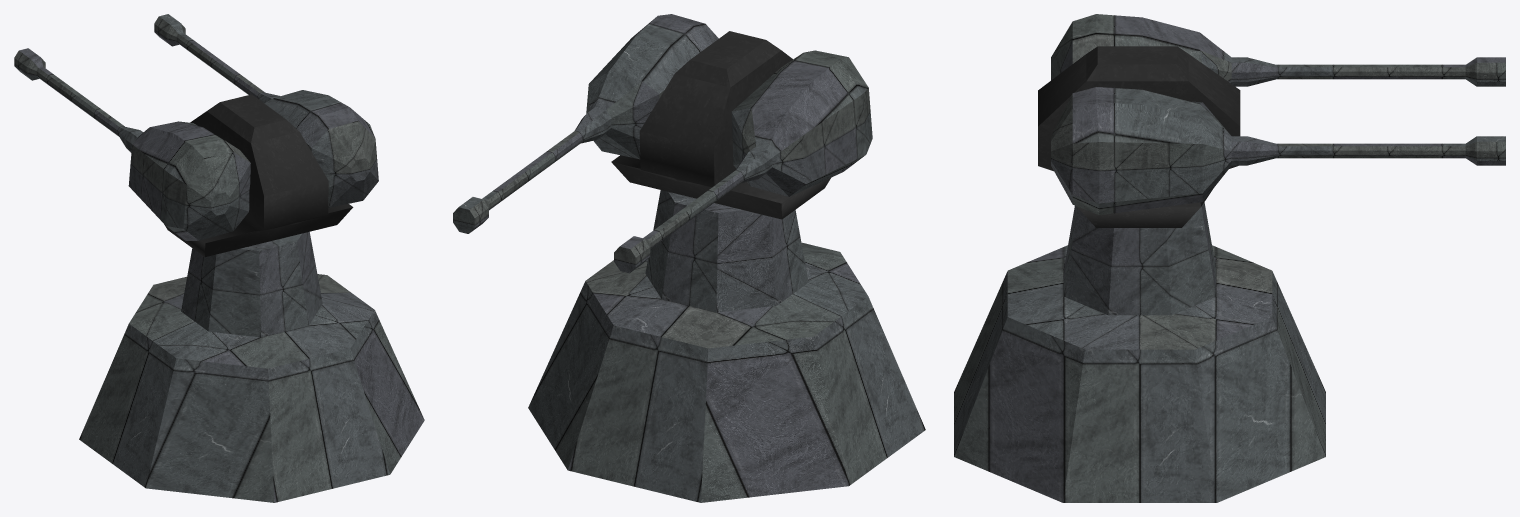
File: Turret.FBX
The picture shows the model from 3 angles, left to right: view 1: azimuth 30°, elevation 25°; view 2: azimuth 150°, elevation 25°; view 3: azimuth 270°, elevation 25°; orthographic projection. The views are drawn at different scales.
Parts seen in each view (by area): view 1: Box43, Box44, Box45; view 2: Box43, Box44, Box45; view 3: Box43, Box44, Box45.
Boxes of the visible parts, x1,y1,x2,y2 form: Box43: (79,232,424,502); Box44: (14,14,378,240); Box45: (164,94,353,257); Box43: (528,190,925,502); Box44: (453,14,872,273); Box45: (611,31,830,219); Box43: (954,202,1325,502); Box44: (1051,14,1505,215); Box45: (1038,46,1240,227).
Bounding box in the file's own units: 53.06 × 58.13 × 78.75.
Materials: 2 (2 with a texture image).
